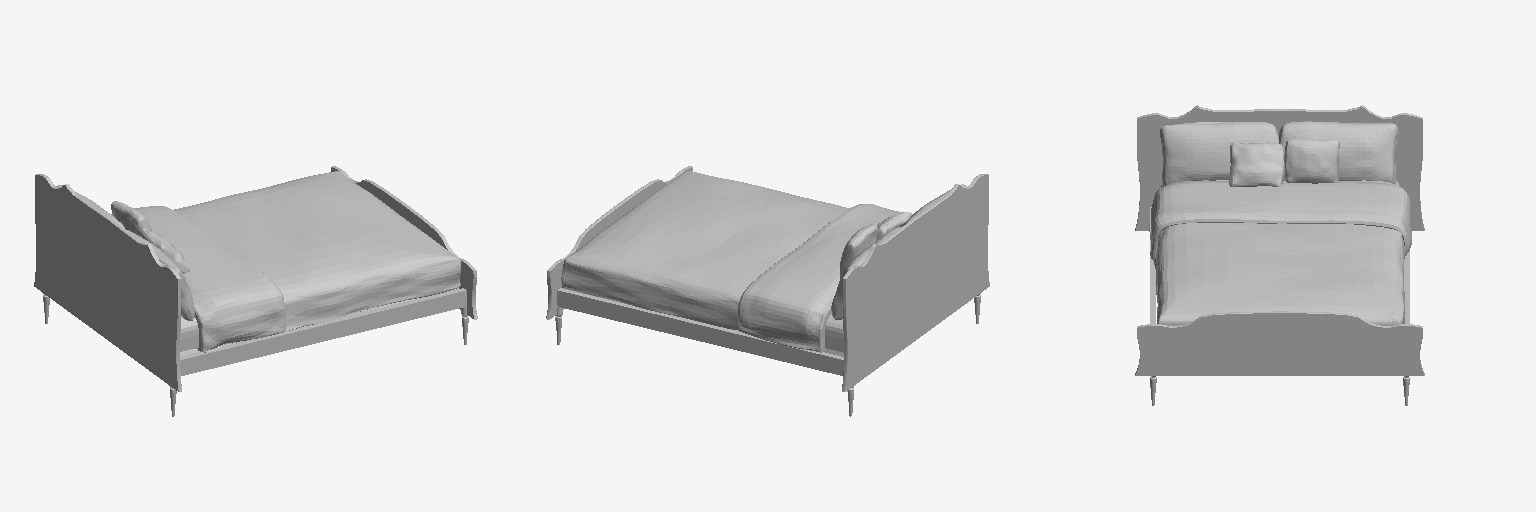
The model's file is Cama_de_Casal.obj.
3 views of the same model, side by side, from view 1: azimuth 30°, elevation 25°; view 2: azimuth 150°, elevation 25°; view 3: azimuth 270°, elevation 25° (orthographic).
Parts seen in each view (by area): view 1: Cama_de_Casal; view 2: Cama_de_Casal; view 3: Cama_de_Casal.
Boxes of the visible parts, <box> form: Cama_de_Casal: <box>34,166,477,416</box>; Cama_de_Casal: <box>546,166,989,416</box>; Cama_de_Casal: <box>1135,105,1424,405</box>.
Bounding box in the file's own units: 3.84 × 1.91 × 3.22.